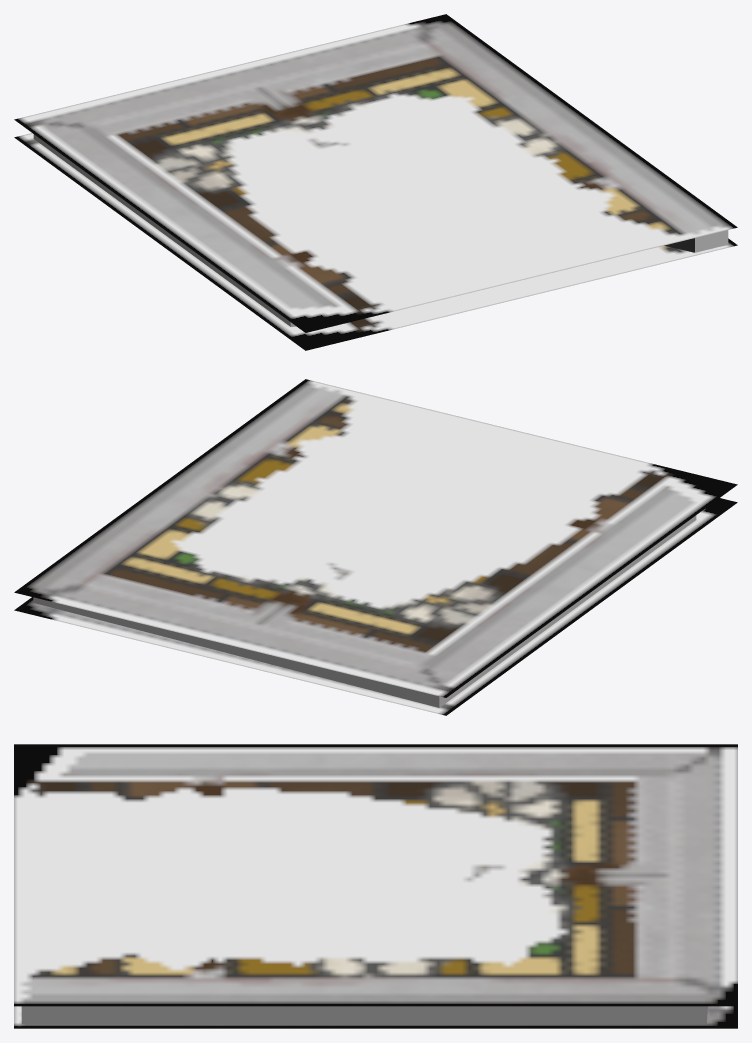
Rendered from pz_native_location_community_church_small_01_251_frame.obj.
3 renders of one model, top to bottom at view 1: azimuth 30°, elevation 25°; view 2: azimuth 150°, elevation 25°; view 3: azimuth 270°, elevation 25°, orthographic. The views are drawn at different scales.
Visible parts, largest first — view 1: pz_native_location_community_church_small_01_251_frame; view 2: pz_native_location_community_church_small_01_251_frame; view 3: pz_native_location_community_church_small_01_251_frame.
Boxes of the visible parts, x1,y1,x2,y2 form: pz_native_location_community_church_small_01_251_frame: [14, 14, 737, 350]; pz_native_location_community_church_small_01_251_frame: [14, 379, 737, 715]; pz_native_location_community_church_small_01_251_frame: [14, 744, 737, 1028].
Size of the model in its own units: 1.02 by 0.04 by 1.19.
Materials: 1 (1 with a texture image).
